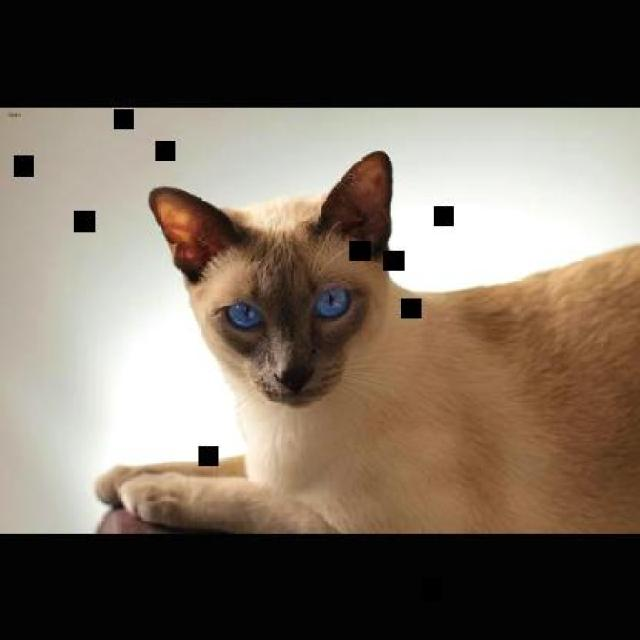unauthorized: (92, 148, 638, 534)
